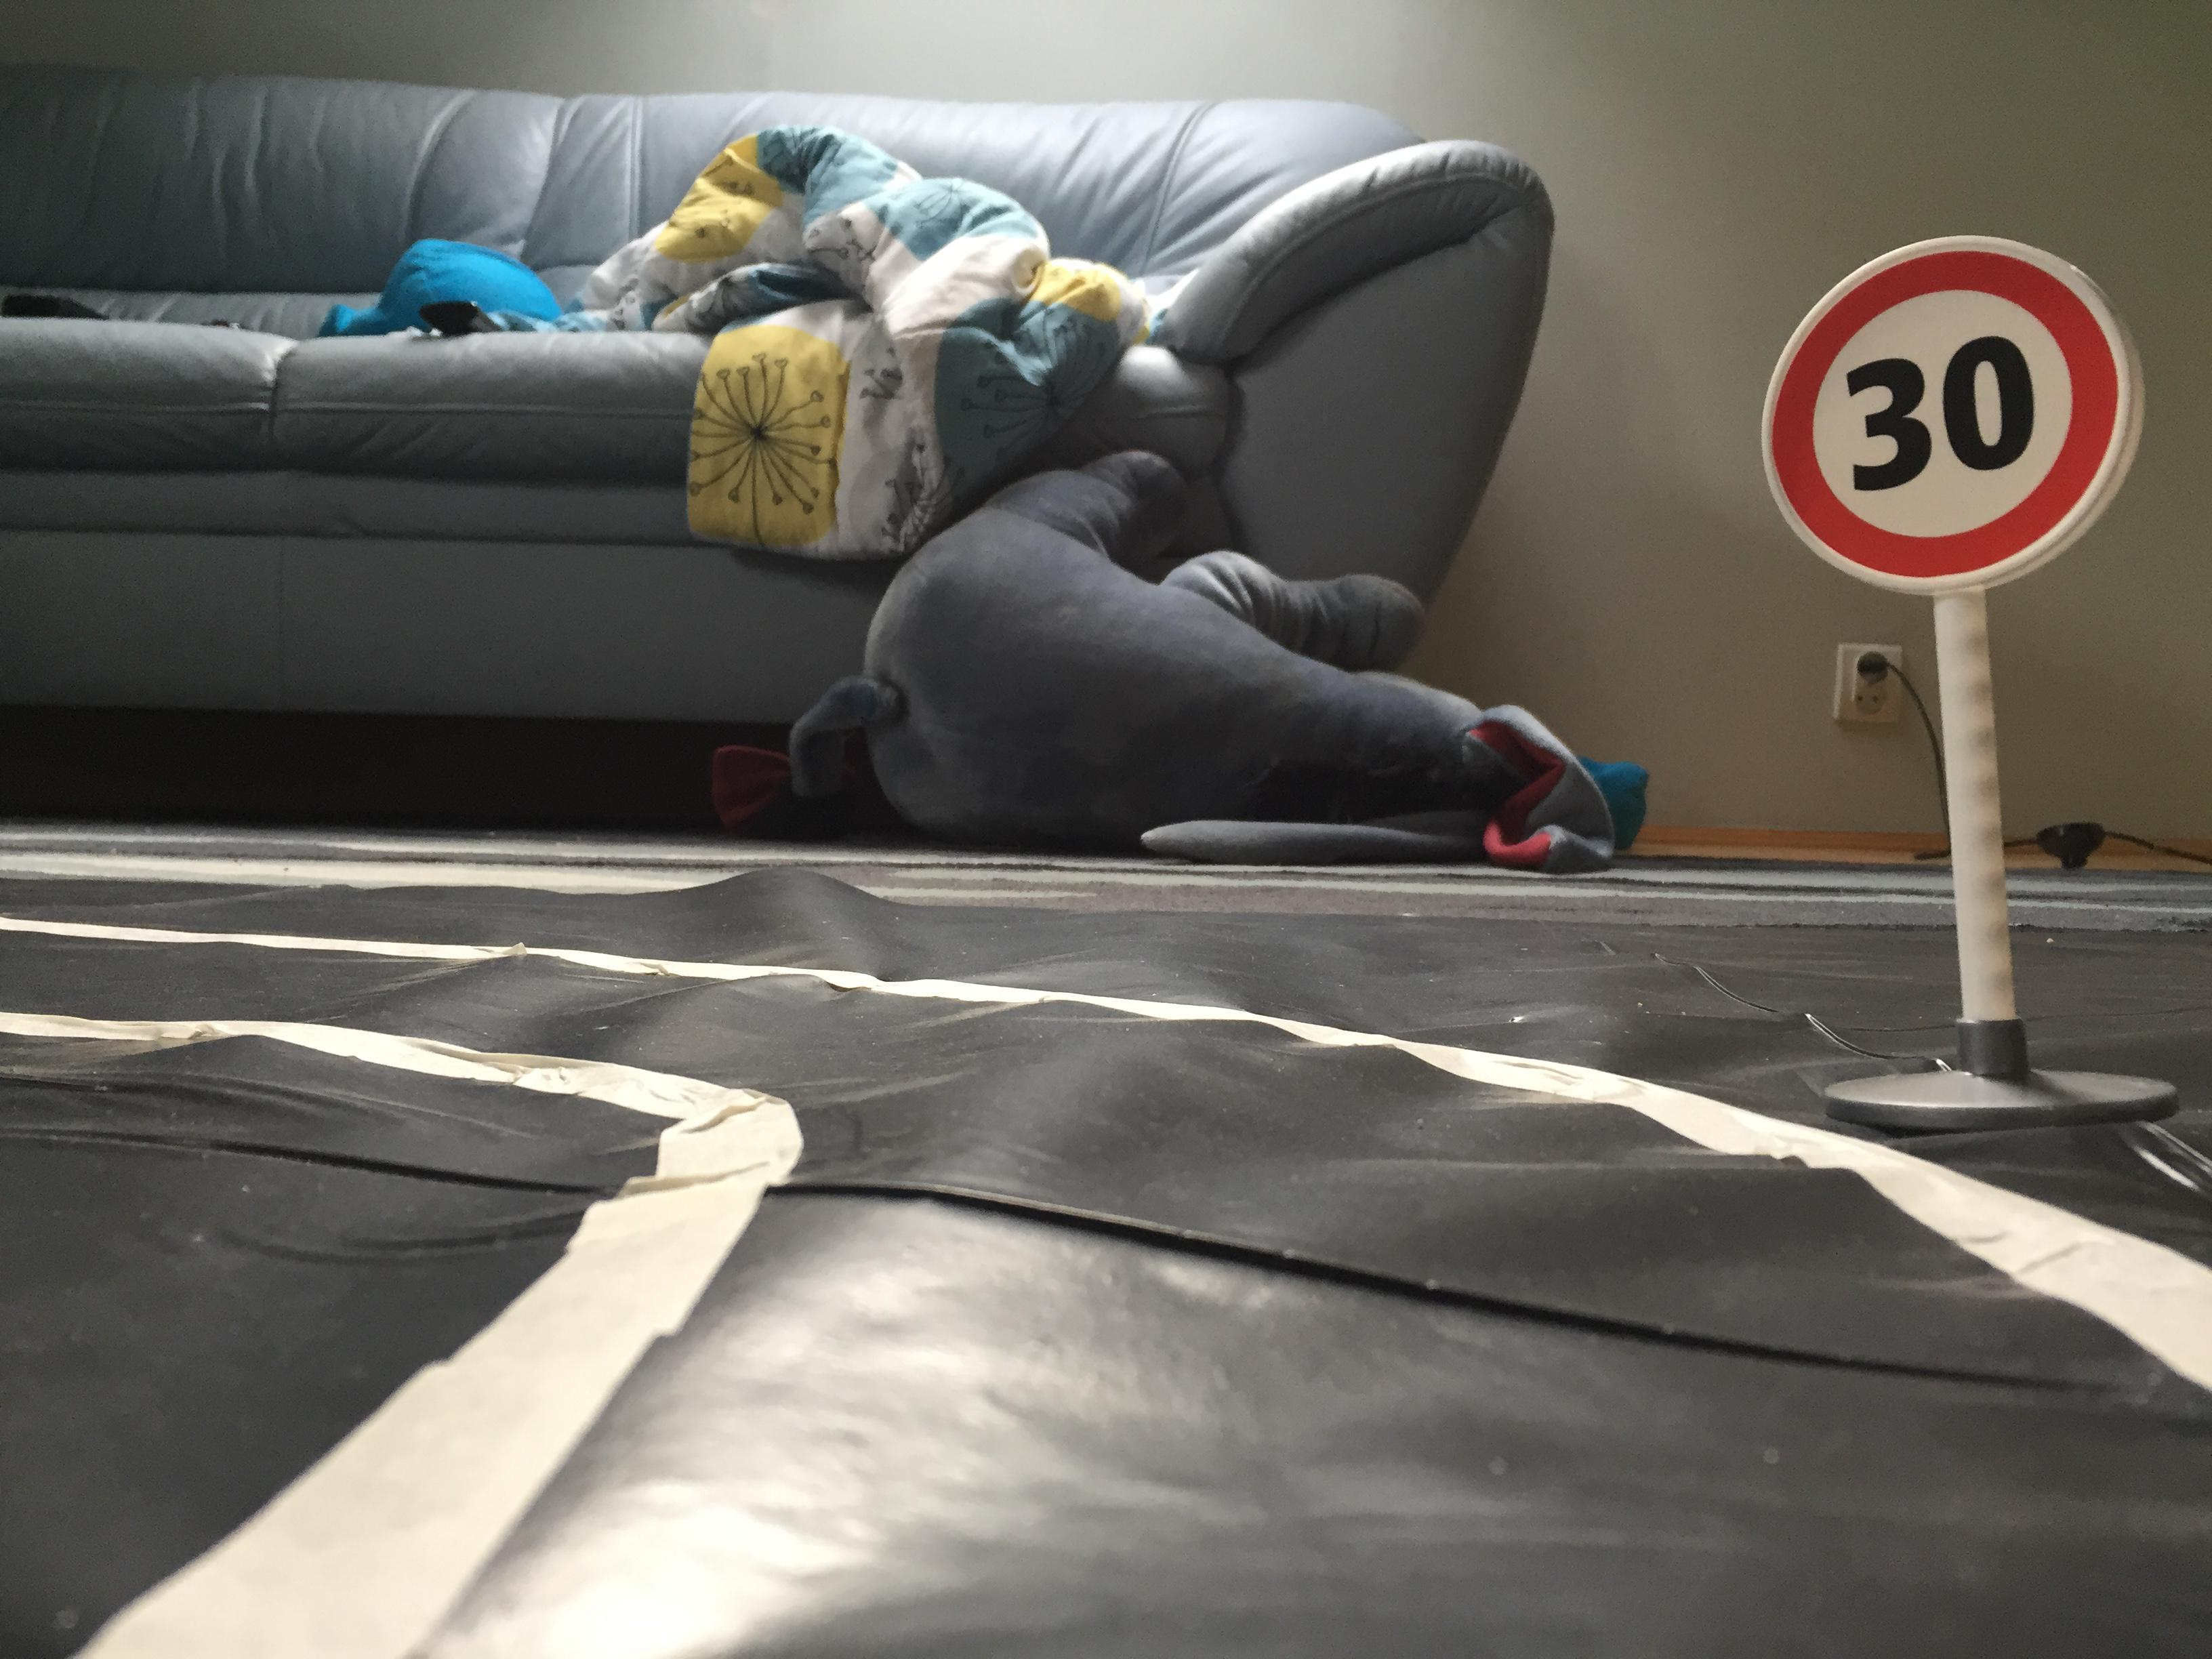speed: (1743, 223, 2165, 603)
